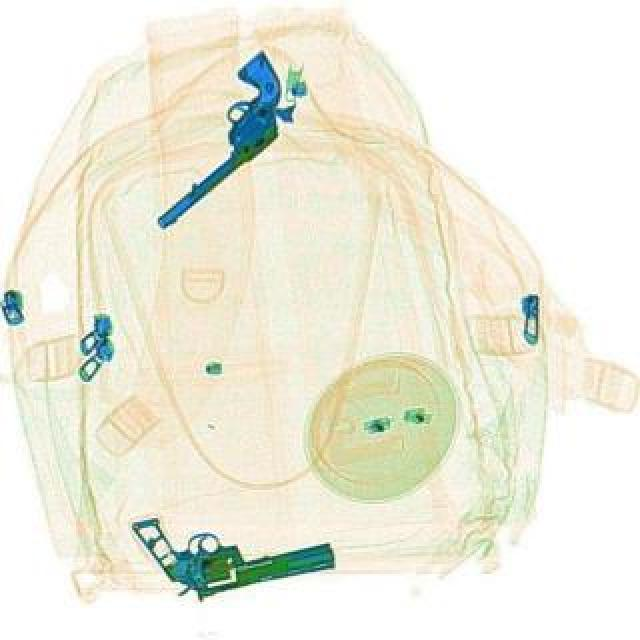gun: (108, 50, 314, 230), (128, 480, 338, 612)
